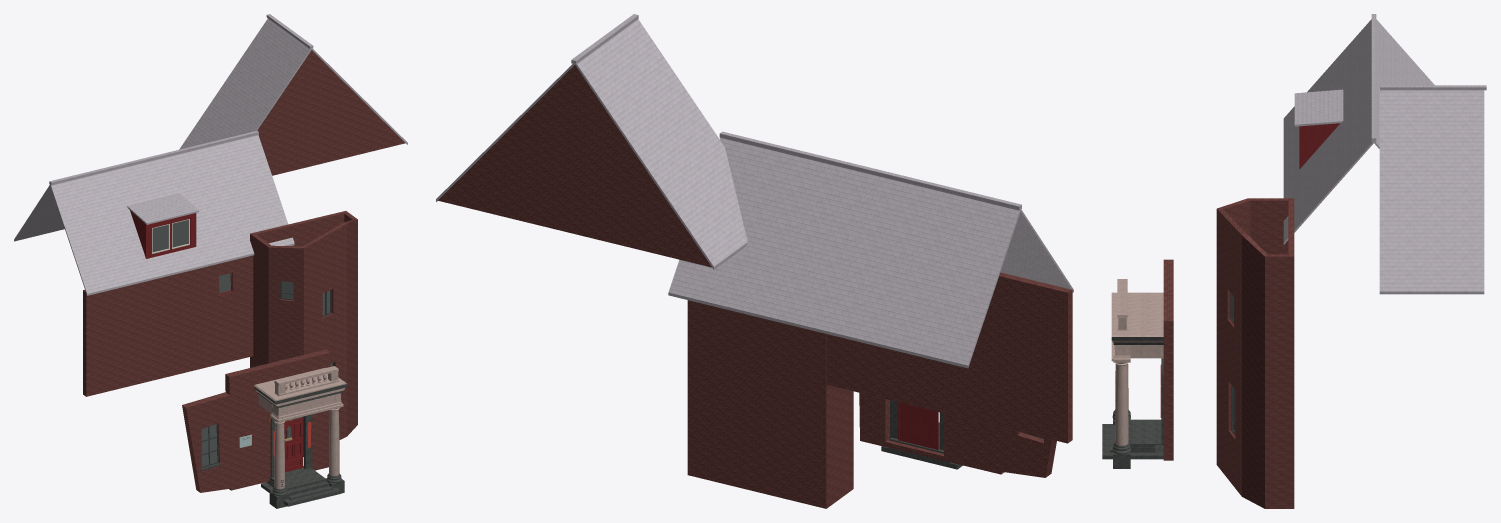
The model's file is changning-xinhua-329-no32b-consular-portico-web.glb.
The picture shows the model from 3 angles, left to right: view 1: azimuth 30°, elevation 25°; view 2: azimuth 150°, elevation 25°; view 3: azimuth 270°, elevation 25°; orthographic projection. The views are drawn at different scales.
Parts seen in each view (by area): view 1: 新华路329弄32号乙花园住宅庭院立面; view 2: 新华路329弄32号乙花园住宅庭院立面; view 3: 新华路329弄32号乙花园住宅庭院立面.
Part boxes in pixels (x1=…): 新华路329弄32号乙花园住宅庭院立面: x1=14, y1=14, x2=407, y2=508; 新华路329弄32号乙花园住宅庭院立面: x1=436, y1=14, x2=1073, y2=508; 新华路329弄32号乙花园住宅庭院立面: x1=1102, y1=14, x2=1486, y2=508.
Size of the model in its own units: 15.99 by 14.81 by 12.04.
Materials: 18 (5 with a texture image).
